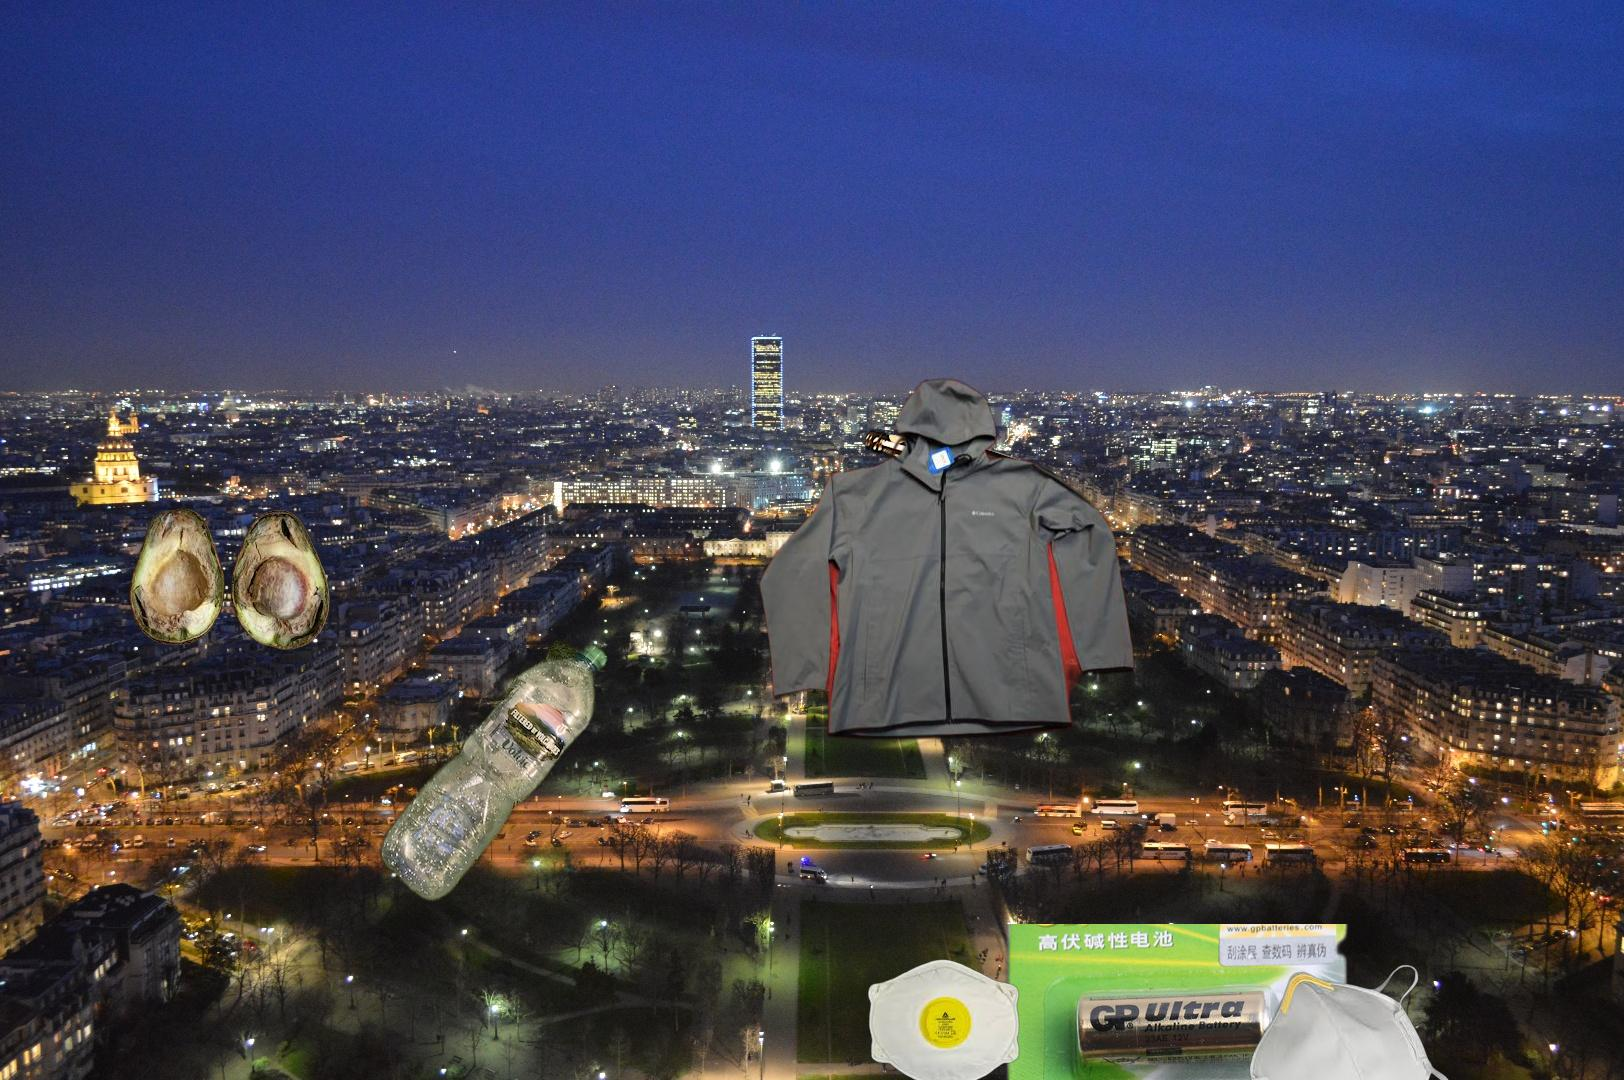battery: (984, 925, 1457, 1080)
biological: (126, 506, 333, 653)
clothes: (749, 309, 1138, 744)
glass: (861, 423, 1060, 530)
plastic-bottles: (375, 634, 612, 906)
trash: (1217, 963, 1453, 1080), (865, 956, 1022, 1080)
